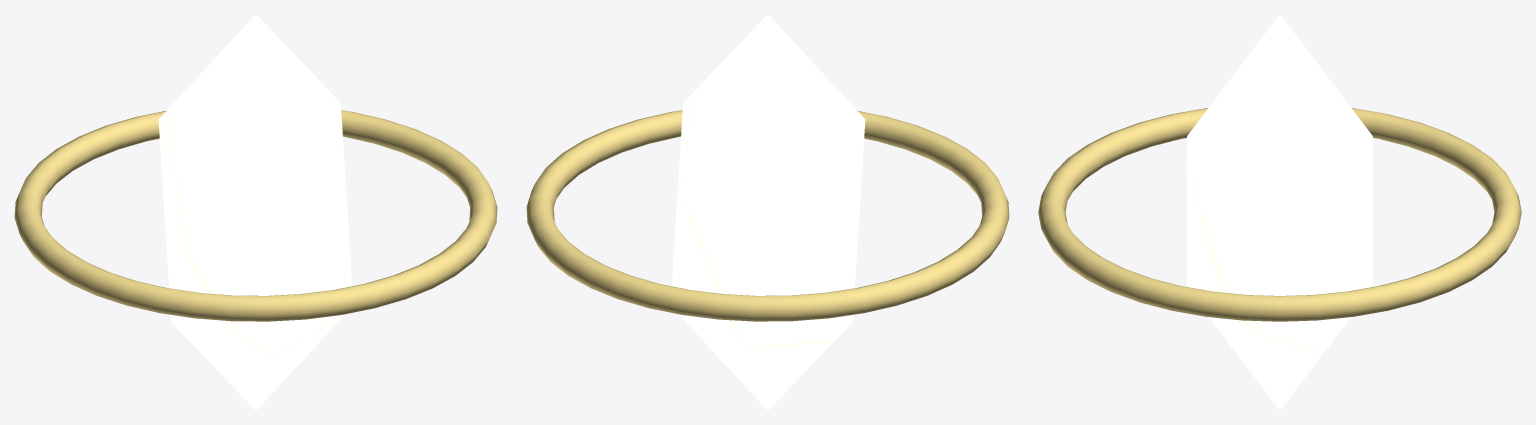
The model's file is VFX_PowerUp_Crystal.fbx.
3 views of the same model, side by side, from view 1: azimuth 30°, elevation 25°; view 2: azimuth 150°, elevation 25°; view 3: azimuth 270°, elevation 25° (orthographic).
Visible parts, largest first — view 1: VFX_PowerUp_Crystal; view 2: VFX_PowerUp_Crystal; view 3: VFX_PowerUp_Crystal.
Part boxes in pixels (<box>): VFX_PowerUp_Crystal: <box>14,14,497,410</box>; VFX_PowerUp_Crystal: <box>526,14,1009,410</box>; VFX_PowerUp_Crystal: <box>1038,14,1521,410</box>.
Size of the model in its own units: 1.06 by 0.96 by 1.06.
